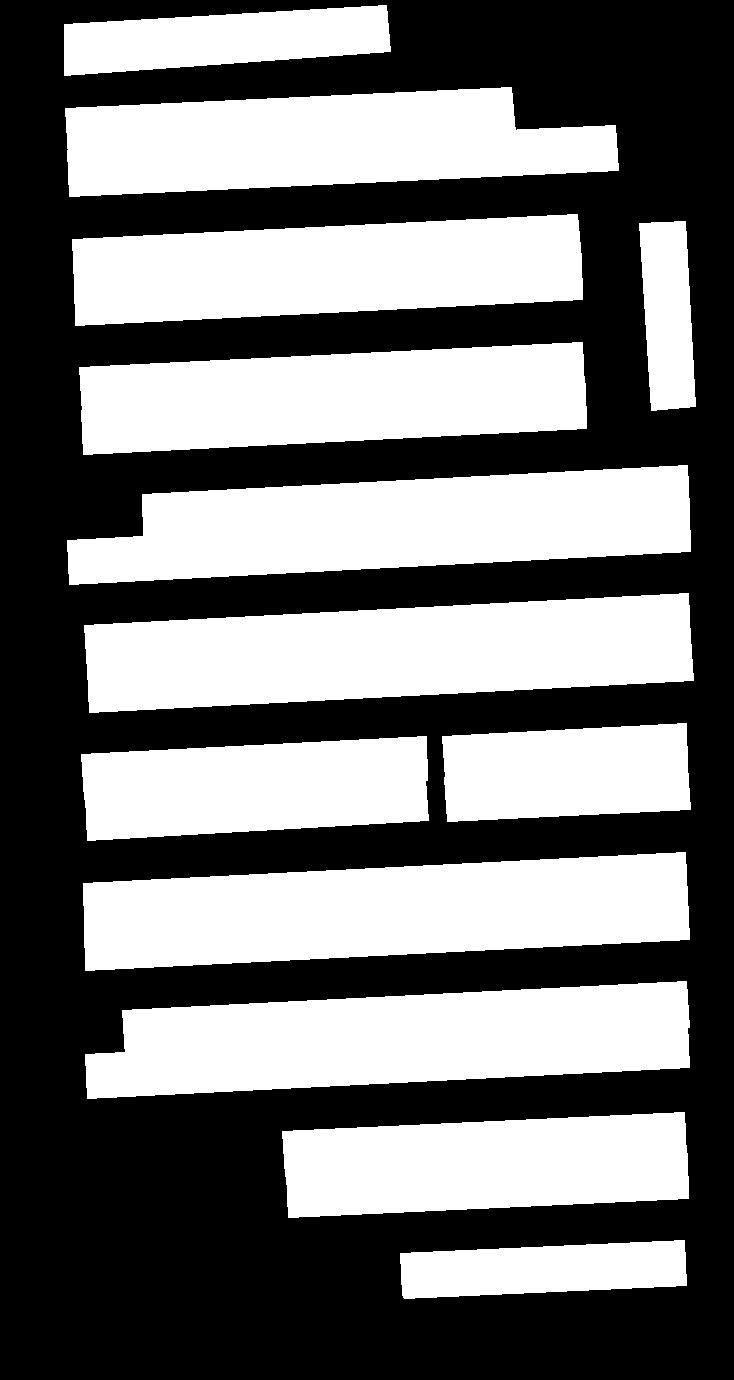parkingspot: (67, 507, 690, 584), (84, 593, 690, 671), (87, 636, 693, 712), (84, 894, 689, 970), (83, 852, 687, 928), (85, 1023, 689, 1098), (122, 981, 689, 1056), (142, 465, 689, 538), (67, 125, 618, 196), (72, 214, 581, 285), (79, 342, 584, 413), (81, 383, 586, 454), (74, 255, 582, 325), (65, 87, 515, 156), (282, 1112, 686, 1176), (286, 1153, 688, 1217), (64, 5, 390, 75), (81, 736, 427, 799), (85, 778, 428, 840), (400, 1240, 686, 1298), (444, 765, 690, 821), (442, 723, 687, 779), (639, 221, 695, 410)
